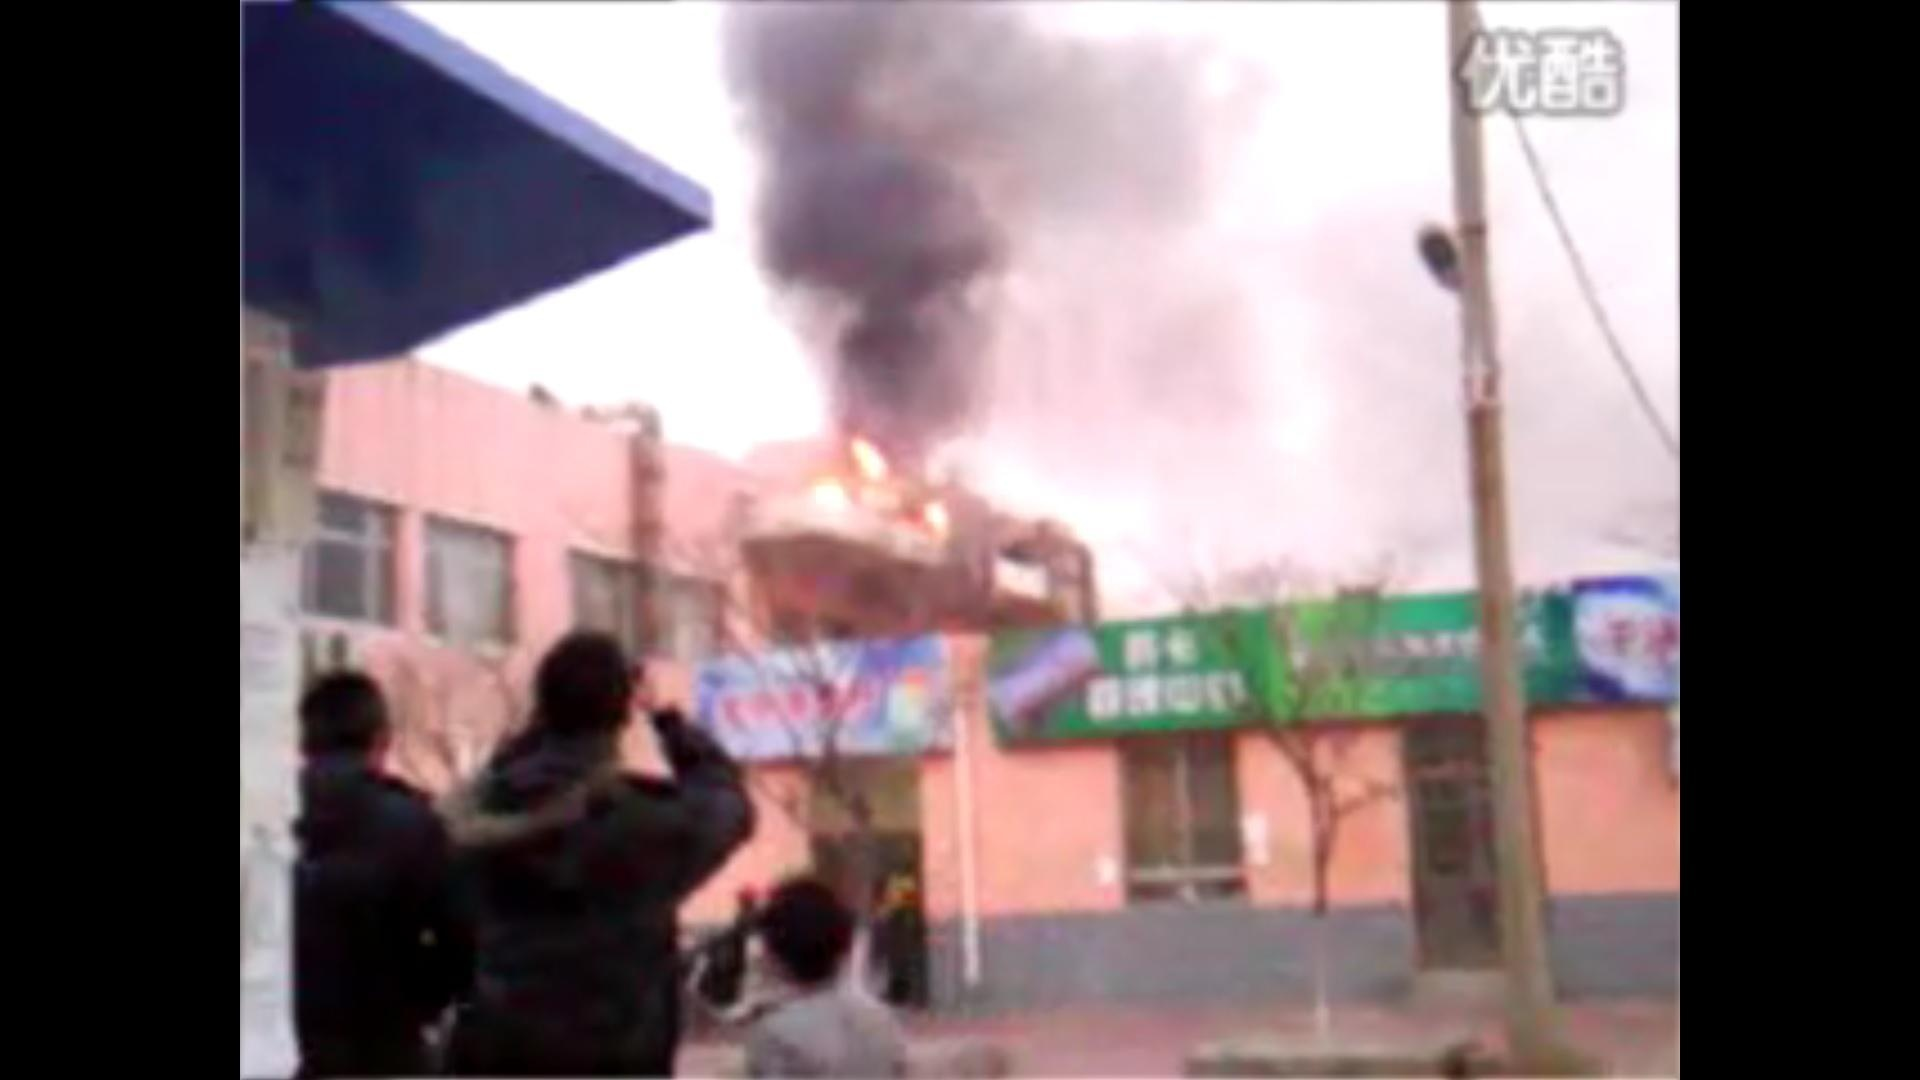fire: (808, 429, 940, 530)
